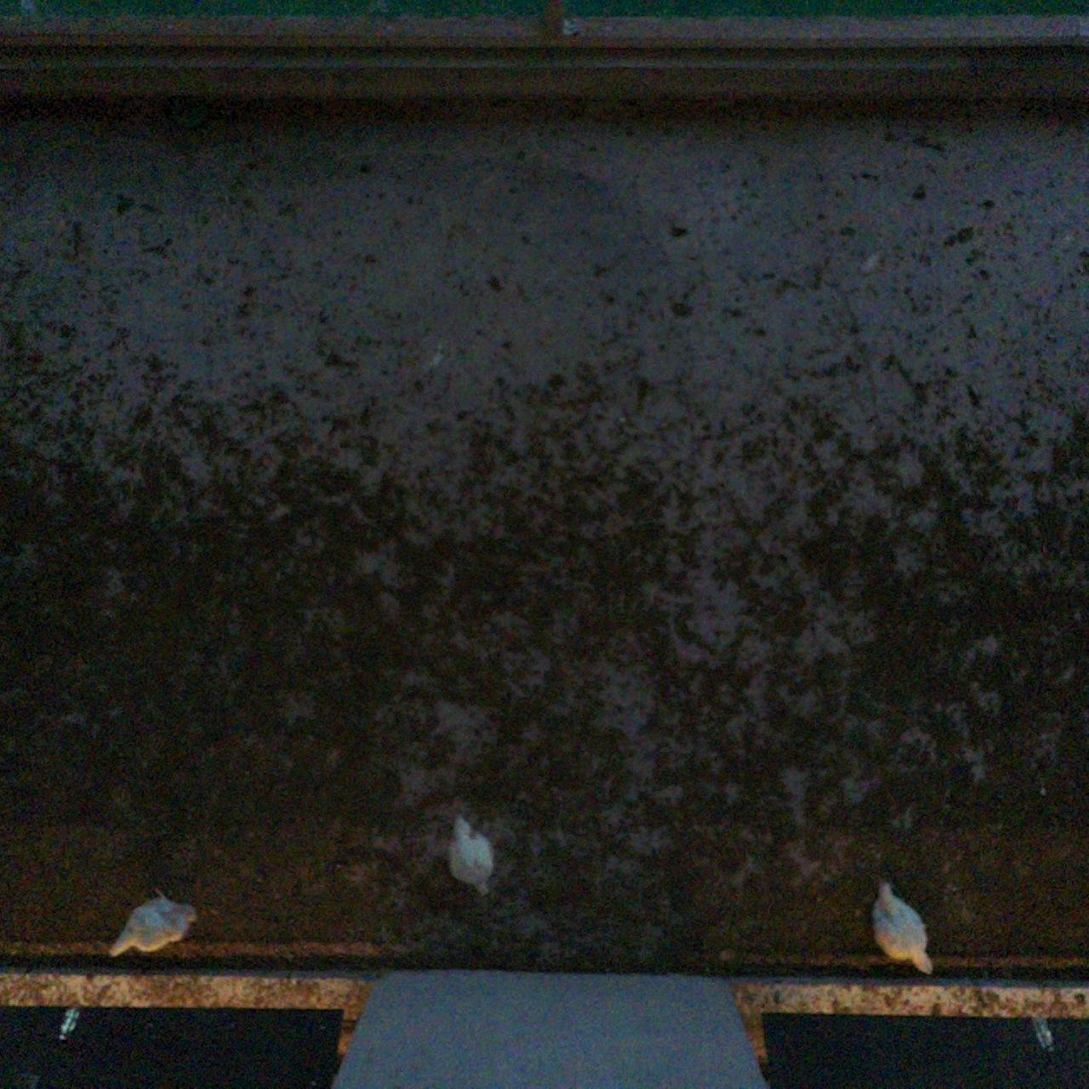chicken: (104, 882, 203, 962), (866, 874, 938, 980), (446, 809, 500, 901)
